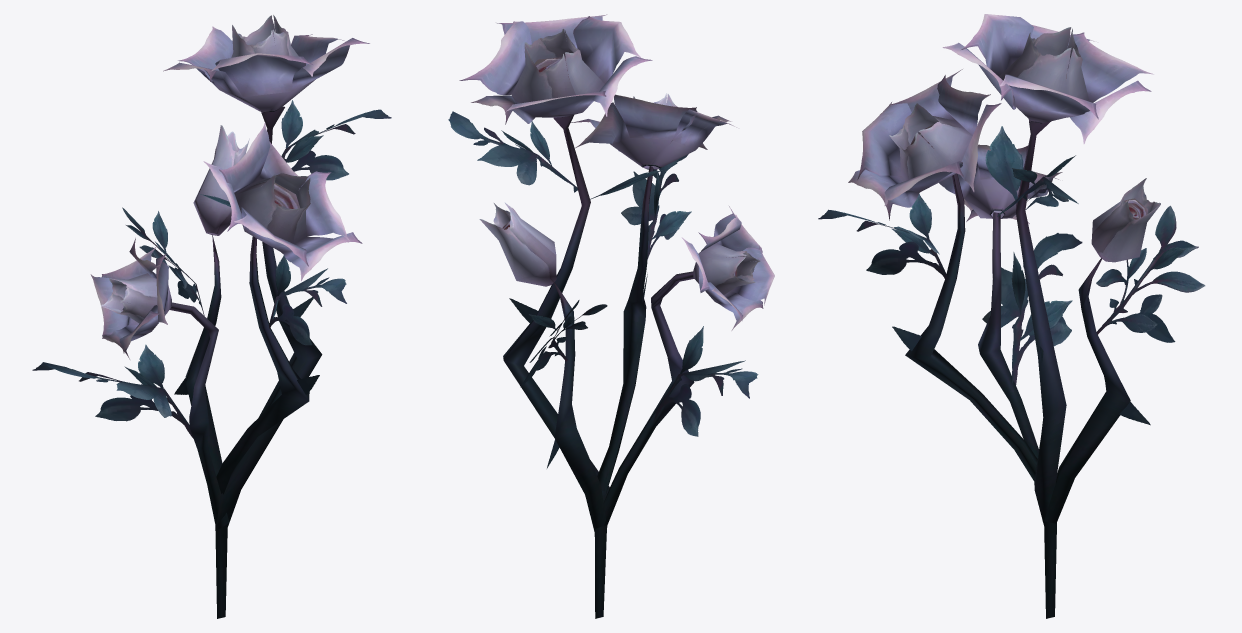
The picture shows the model from 3 angles, left to right: view 1: azimuth 30°, elevation 25°; view 2: azimuth 150°, elevation 25°; view 3: azimuth 270°, elevation 25°; orthographic projection. The views are drawn at different scales.
Bounding box in the file's own units: 4.75 × 7.27 × 4.59.
1 material, 1 textured.
